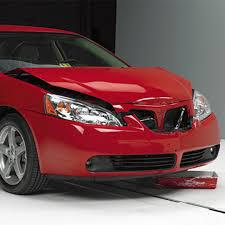bonnet-dent: (33, 63, 197, 105)
